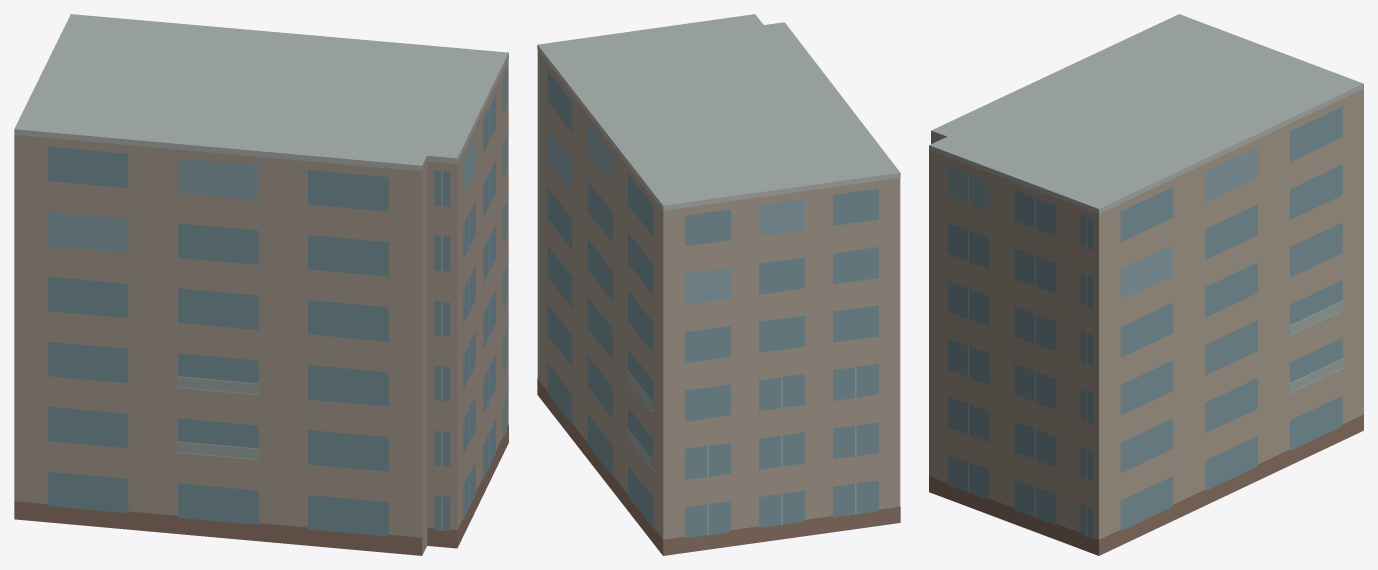
The model's file is survey-upis-32978946.glb.
3 renders of one model, left to right at view 1: azimuth 30°, elevation 25°; view 2: azimuth 150°, elevation 25°; view 3: azimuth 270°, elevation 25°, orthographic. The views are drawn at different scales.
Visible parts, largest first — view 1: survey-upis-32978946.tmp; view 2: survey-upis-32978946.tmp; view 3: survey-upis-32978946.tmp.
Part boxes in pixels (x1,y1,x2,y2): survey-upis-32978946.tmp: (14,14,508,555); survey-upis-32978946.tmp: (537,14,900,555); survey-upis-32978946.tmp: (929,14,1363,555).
Size of the model in its own units: 20.27 by 16.8 by 19.09.
